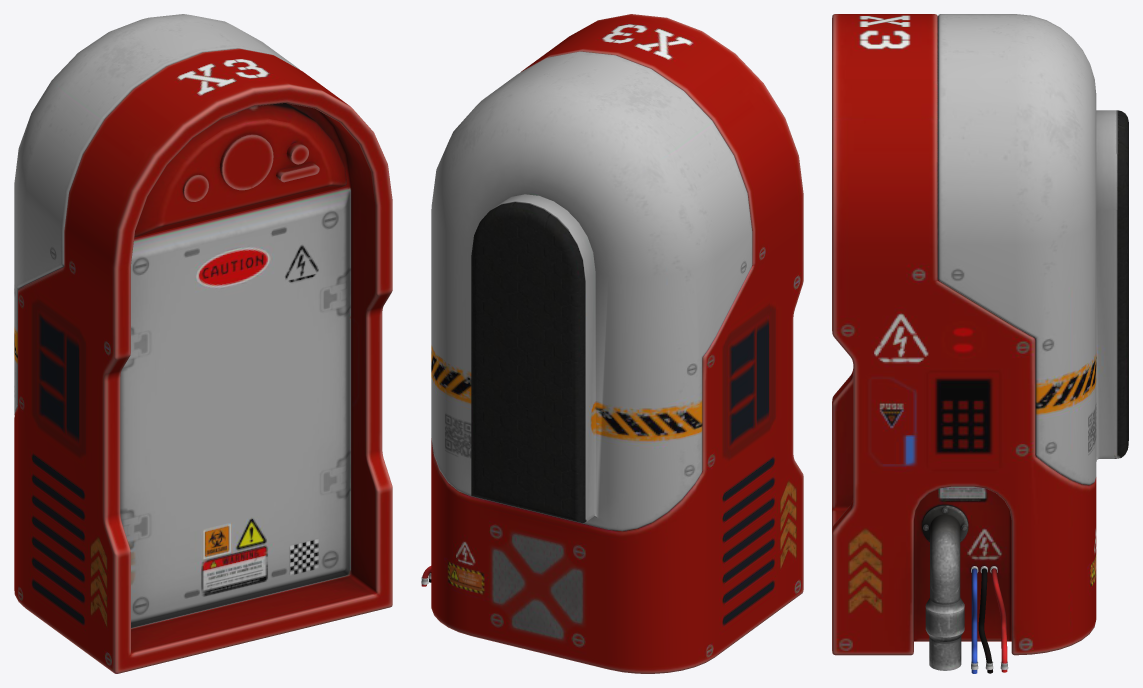
The model's file is elektirik_panosu.fbx.
3 renders of one model, left to right at view 1: azimuth 30°, elevation 25°; view 2: azimuth 150°, elevation 25°; view 3: azimuth 270°, elevation 25°, orthographic. The views are drawn at different scales.
Parts seen in each view (by area): view 1: Object_14; view 2: Object_14; view 3: Object_14.
Boxes of the visible parts, box(x1,y1,x2,y2) form: Object_14: box(14, 14, 392, 673); Object_14: box(421, 14, 803, 673); Object_14: box(832, 14, 1128, 673).
Bounding box in the file's own units: 110 × 191 × 91.13.
Materials: 5 (5 with a texture image).
